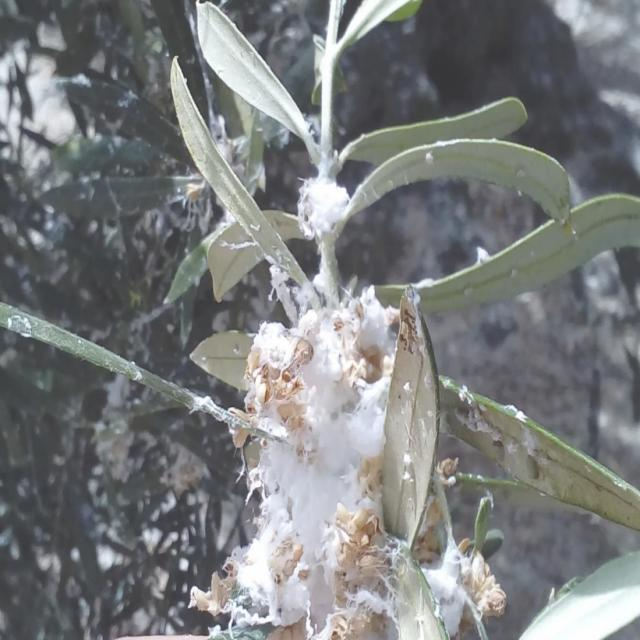Psyllid: (193, 289, 505, 639), (441, 377, 558, 494), (298, 158, 350, 250)
